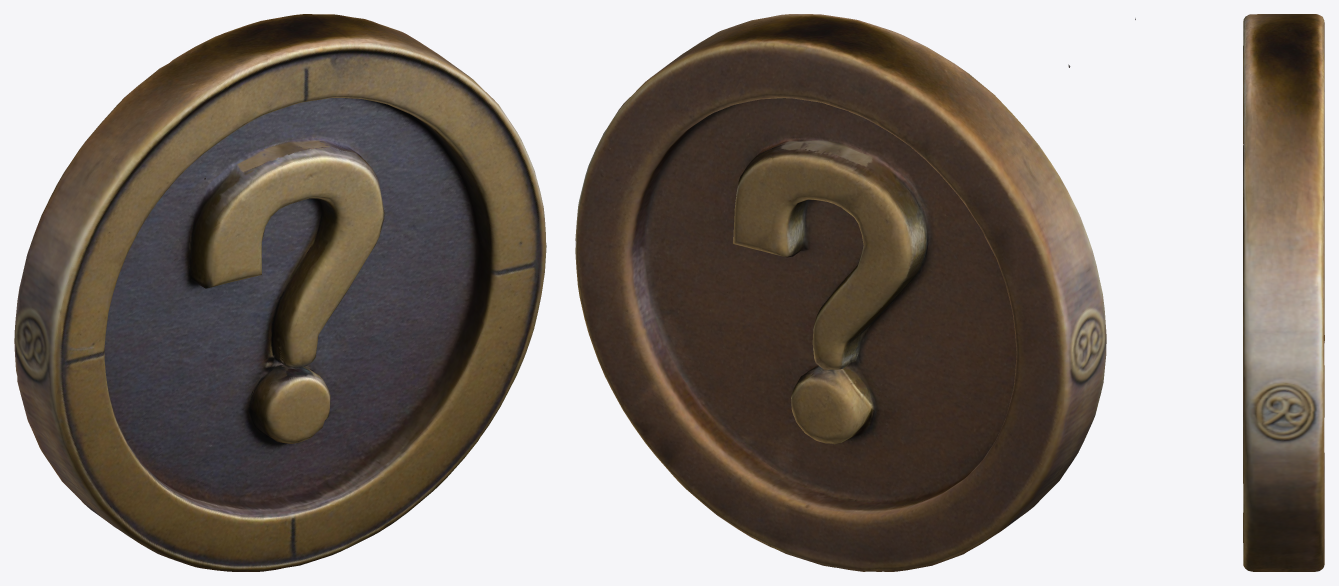
File: una_ficha_de_circular_1125211046_refine.fbx
3 renders of one model, left to right at view 1: azimuth 30°, elevation 25°; view 2: azimuth 150°, elevation 25°; view 3: azimuth 270°, elevation 25°, orthographic. The views are drawn at different scales.
Visible parts, largest first — view 1: Mesh_0; view 2: Mesh_0; view 3: Mesh_0.
Boxes of the visible parts, box(x1,y1,x2,y2) form: Mesh_0: box(14, 14, 546, 571); Mesh_0: box(575, 14, 1106, 571); Mesh_0: box(1135, 14, 1324, 571).
Size of the model in its own units: 200 by 200 by 68.04.
Materials: 1 (1 with a texture image).
